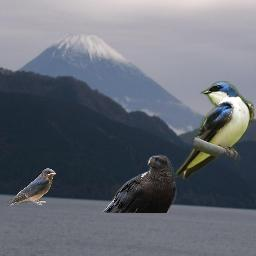Crow: (101, 154, 177, 213)
Swallow: (174, 81, 255, 180), (8, 168, 56, 207)
